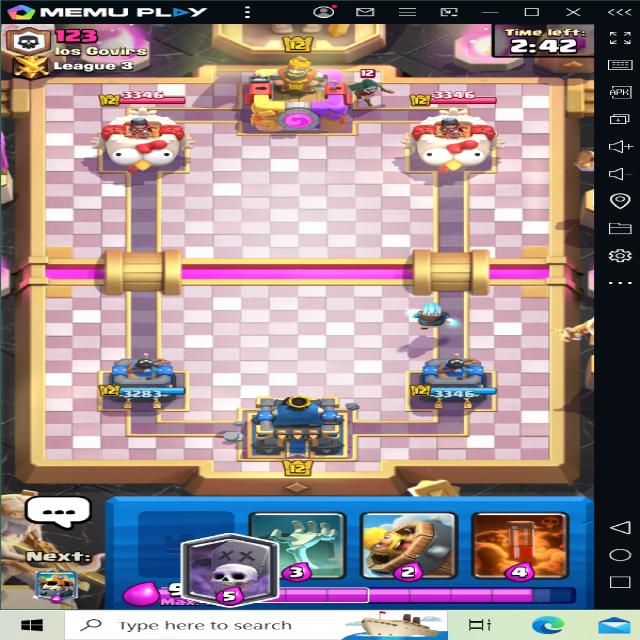bandit: (342, 70, 395, 110)
